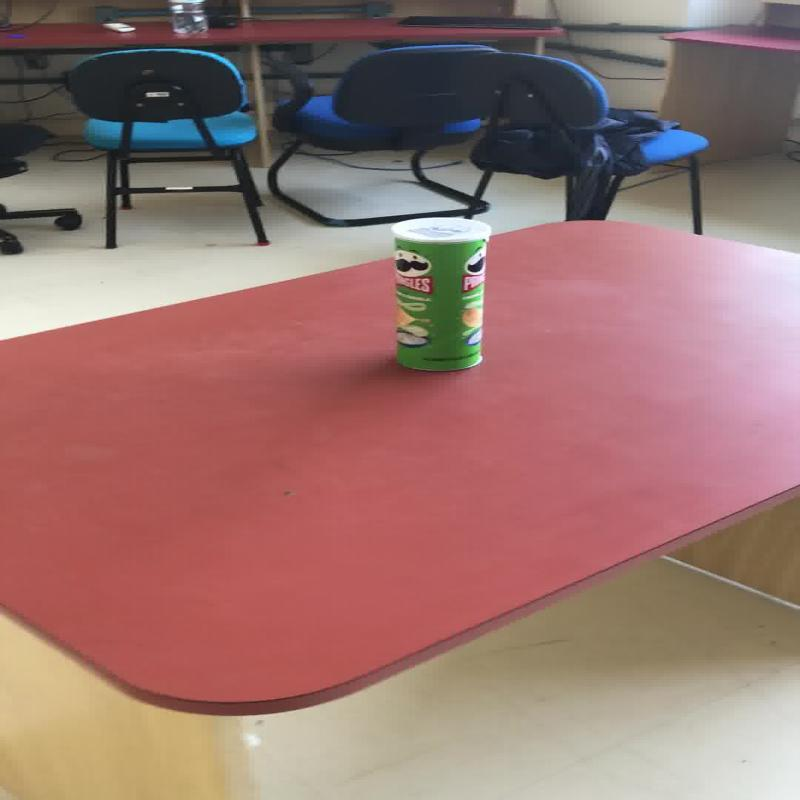pringles: (389, 216, 489, 371)
